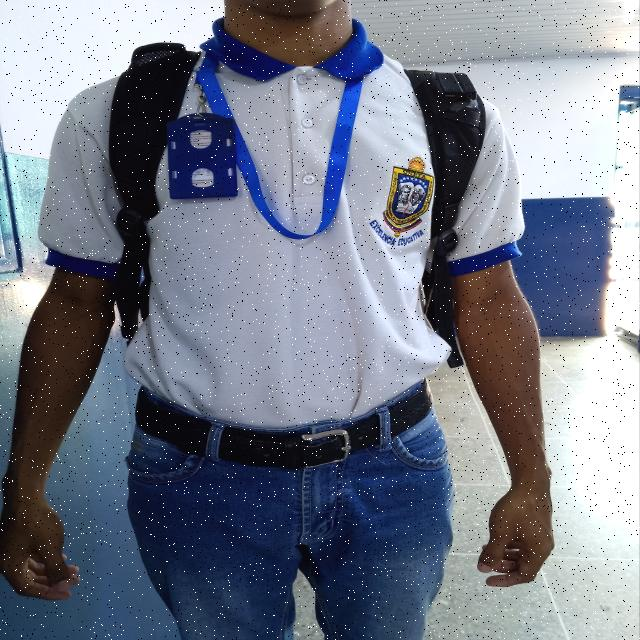carnet: (166, 112, 238, 201)
uniforme_superior: (36, 16, 526, 428)
